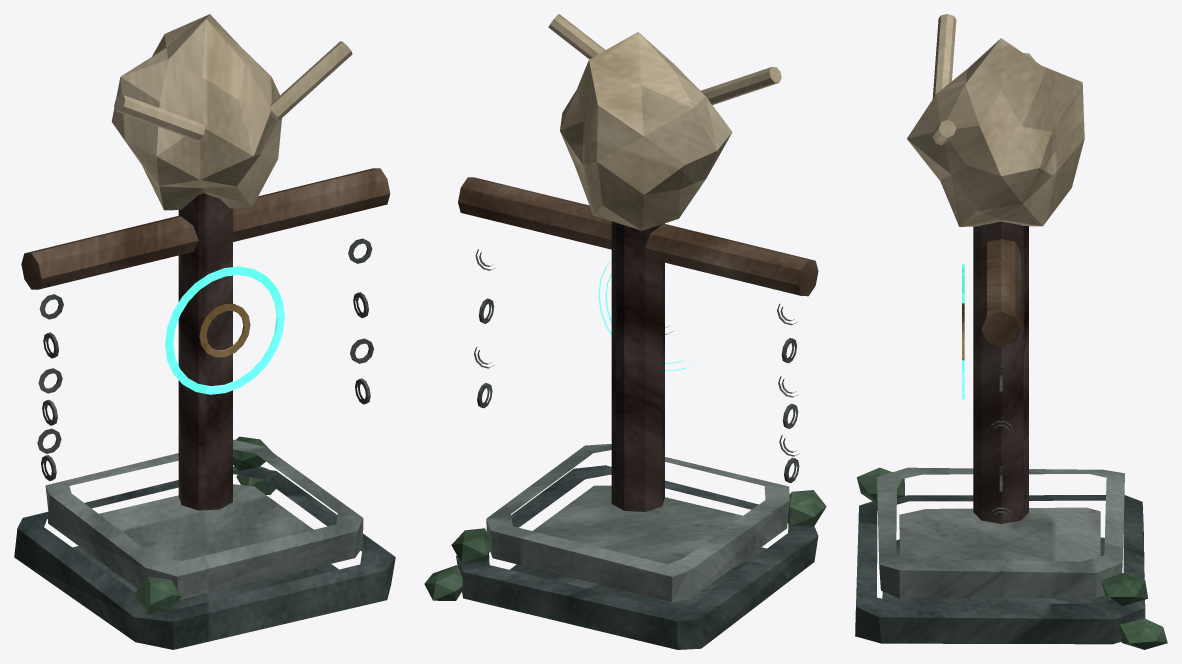
Rendered from 0515_effigy_15.glb.
3 renders of one model, left to right at view 1: azimuth 30°, elevation 25°; view 2: azimuth 150°, elevation 25°; view 3: azimuth 270°, elevation 25°, orthographic. The views are drawn at different scales.
Parts seen in each view (by area): view 1: bone, stone, stone_dark, wood_dark, wood, glow, iron, moss, brass; view 2: bone, stone, stone_dark, wood_dark, wood, moss, iron; view 3: bone, stone, stone_dark, wood_dark, wood, moss.
Boxes of the visible parts, left/top/right/bottom form: bone: left=111, top=14, right=352, bottom=210; stone: left=45, top=439, right=363, bottom=599; stone_dark: left=14, top=466, right=395, bottom=649; wood_dark: left=178, top=193, right=232, bottom=510; wood: left=21, top=168, right=390, bottom=289; glow: left=165, top=266, right=284, bottom=394; iron: left=37, top=238, right=373, bottom=480; moss: left=134, top=436, right=275, bottom=614; brass: left=199, top=303, right=250, bottom=357; bone: left=548, top=14, right=781, bottom=230; stone: left=486, top=444, right=789, bottom=601; stone_dark: left=456, top=465, right=818, bottom=649; wood_dark: left=611, top=221, right=664, bottom=511; wood: left=458, top=177, right=818, bottom=296; moss: left=424, top=490, right=826, bottom=600; iron: left=474, top=249, right=799, bottom=482; bone: left=907, top=14, right=1084, bottom=226; stone: left=877, top=467, right=1124, bottom=598; stone_dark: left=855, top=495, right=1145, bottom=644; wood_dark: left=973, top=221, right=1028, bottom=523; wood: left=981, top=239, right=1020, bottom=347; moss: left=856, top=467, right=1167, bottom=649.
Size of the model in its own units: 2 by 3.05 by 1.57.
9 materials, 9 textured.
